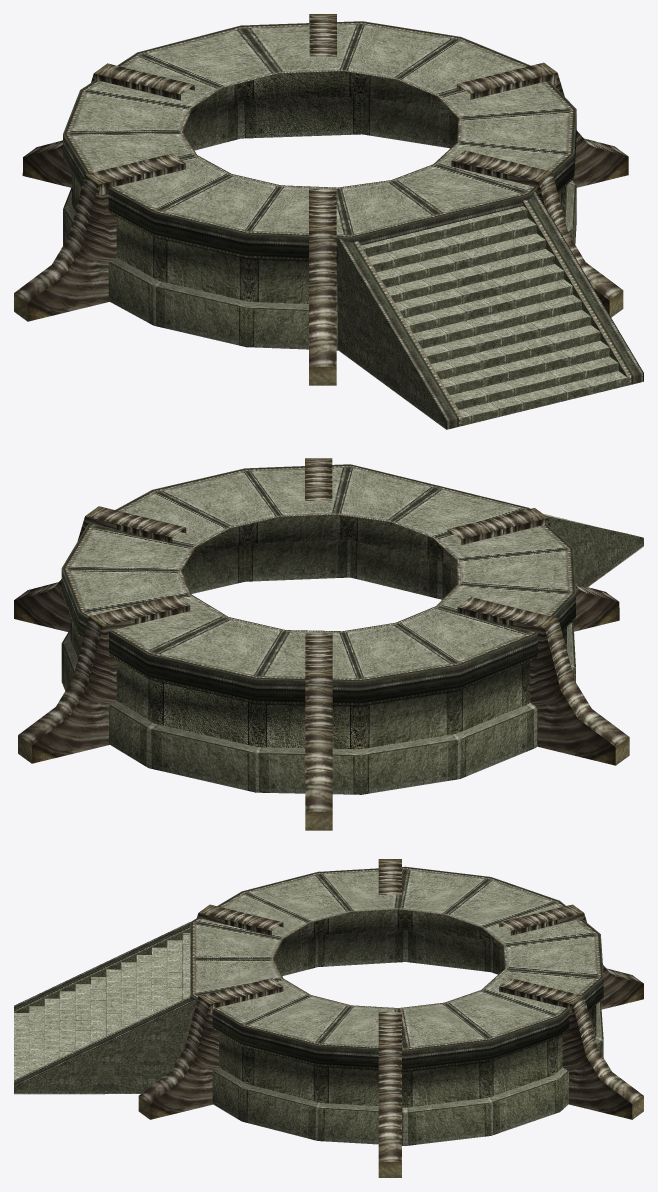
File: ob-11-01-skeletontowerstair02.fbx
The picture shows the model from 3 angles, top to bottom: view 1: azimuth 30°, elevation 25°; view 2: azimuth 150°, elevation 25°; view 3: azimuth 270°, elevation 25°; orthographic projection. The views are drawn at different scales.
Visible parts, largest first — view 1: Sphere01; view 2: Sphere01; view 3: Sphere01.
Boxes of the visible parts, x1=… form: Sphere01: x1=14, y1=14, x2=643, y2=429; Sphere01: x1=14, y1=458, x2=643, y2=830; Sphere01: x1=14, y1=859, x2=643, y2=1177.
Size of the model in its own units: 24.98 by 4.77 by 26.94.
